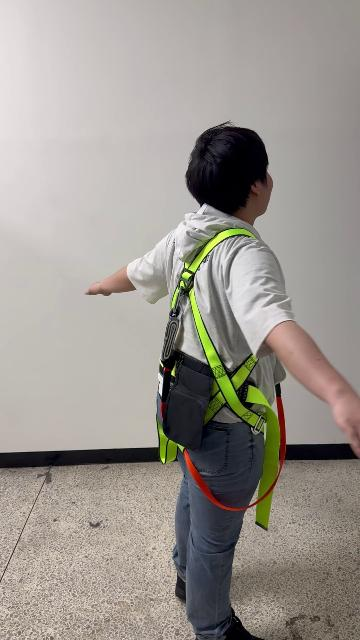helmet_not_worn: (187, 123, 274, 213)
shoe_worn: (219, 611, 266, 639), (175, 573, 186, 601)
vest_worn: (157, 235, 284, 512)
